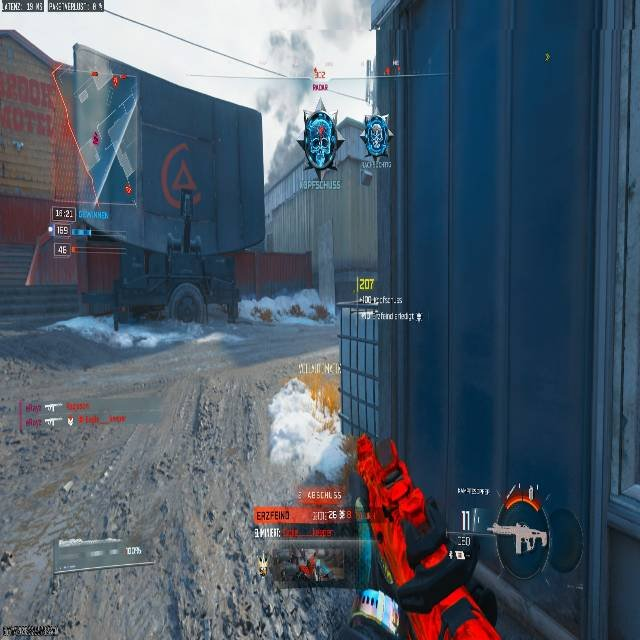player: (268, 378, 314, 461)
